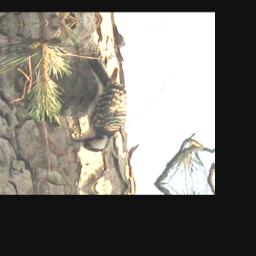Woodpecker: (62, 54, 133, 155)
